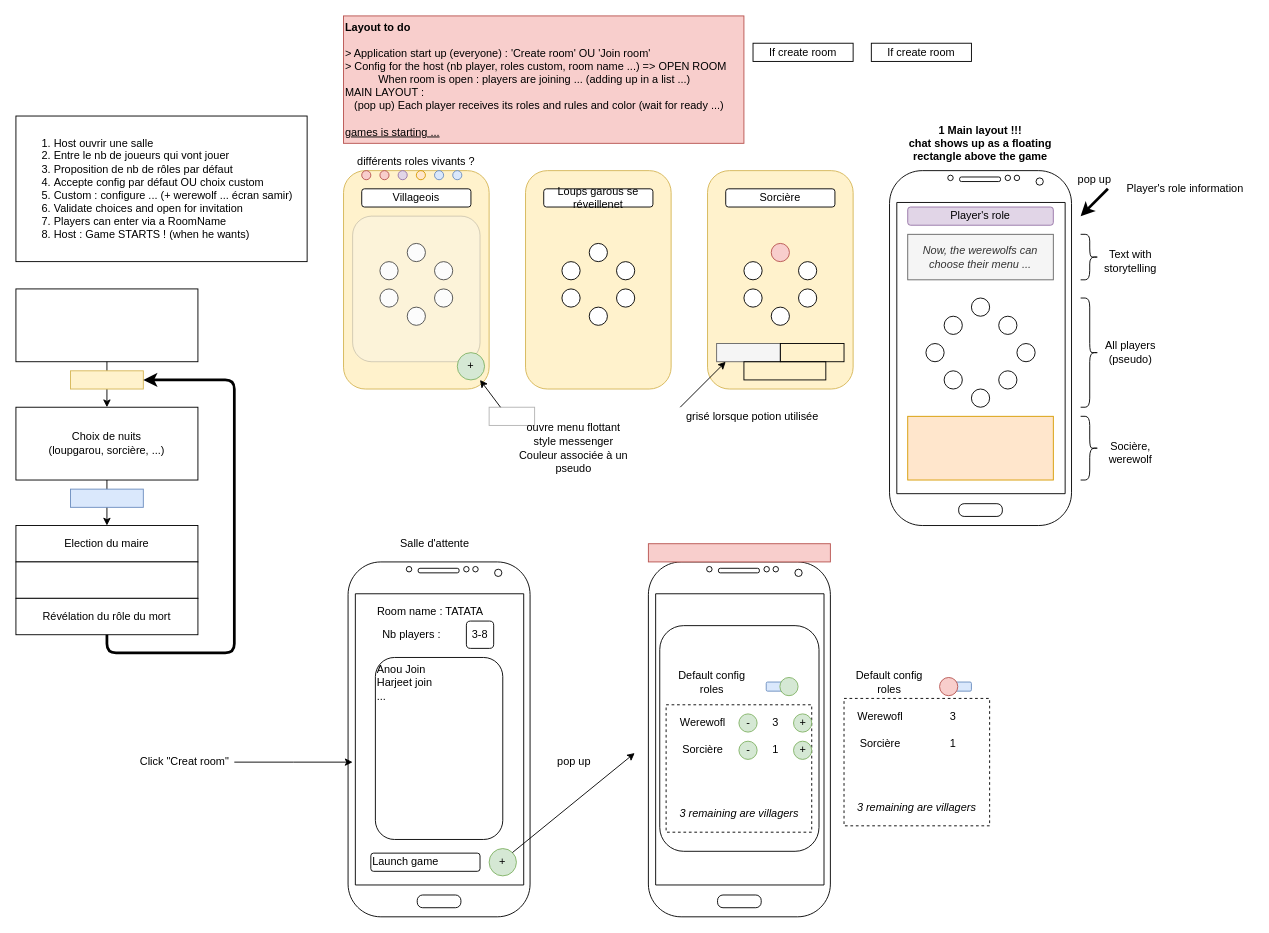
Image size: 1269x933. Some labels were removed from this diagram. Each missing label, with the centre of its shape:
Actions dispo pour le joueur selon son tour: pixel 980 447
CHAT: pixel 511 415
Choix de celui qui est sacrifié: pixel 106 579
Distribution des rôles Association couleur/pseudo: pixel 106 325
Fragment for roles (host): pixel 738 552
Jour se lève: pixel 106 497
Nuit tombe ...: pixel 106 379
Sauvé ?: pixel 748 352
Skip turn: pixel 784 370
Tué autre ?: pixel 811 352
